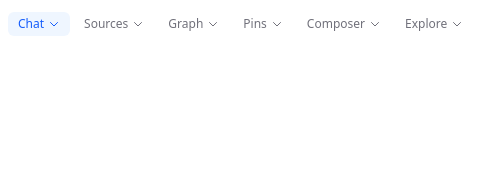
ConversationTabs › shows correct dropdown items for Graph tab
Click the button "Graph" at [194, 24], box [158,12,229,36]
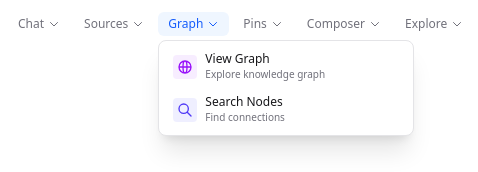
Result: the text "View Graph" is shown at [205,50,270,67]
Result: the text "Search Nodes" is shown at [205,93,283,110]
